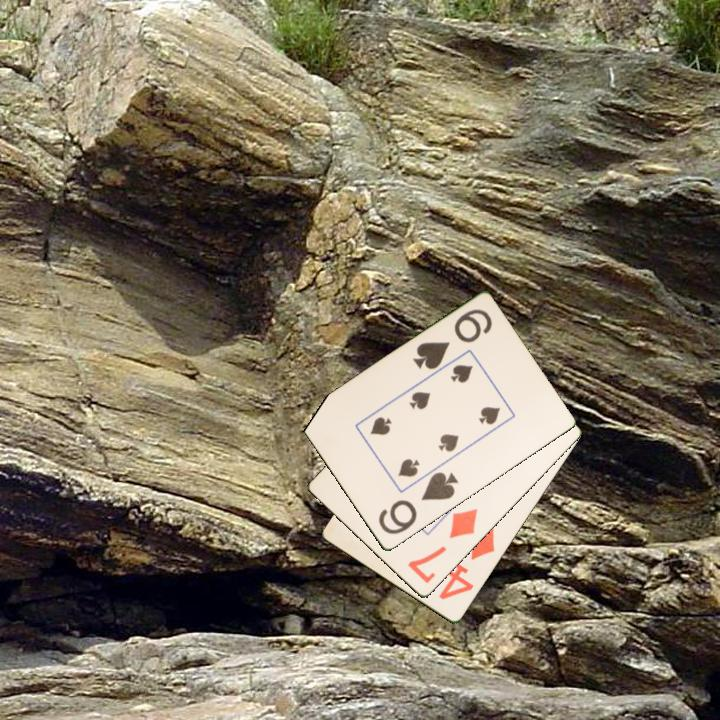4d: (435, 523, 498, 603)
6s: (375, 469, 461, 538), (409, 306, 495, 373)
7d: (404, 505, 481, 587)
